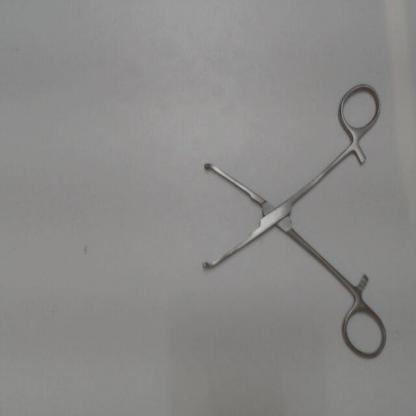Allis Tissue Forceps: (195, 76, 388, 364)
